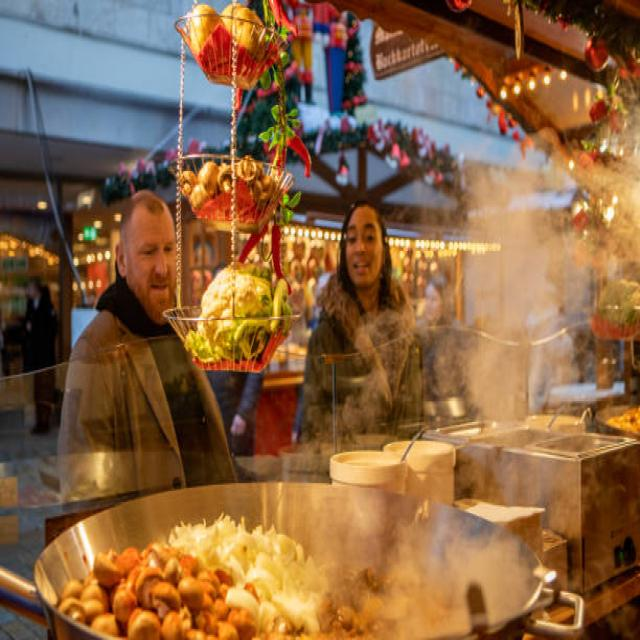Emperan: (15, 346, 640, 640)
